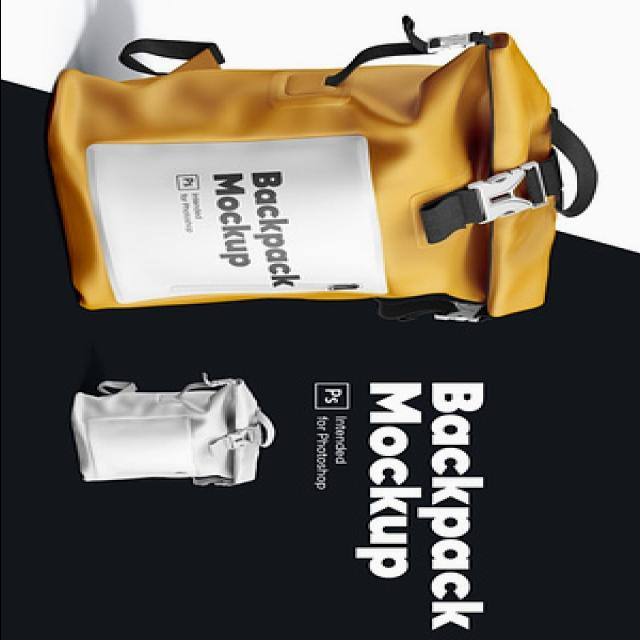backpack: (48, 16, 600, 325), (58, 365, 282, 499)
